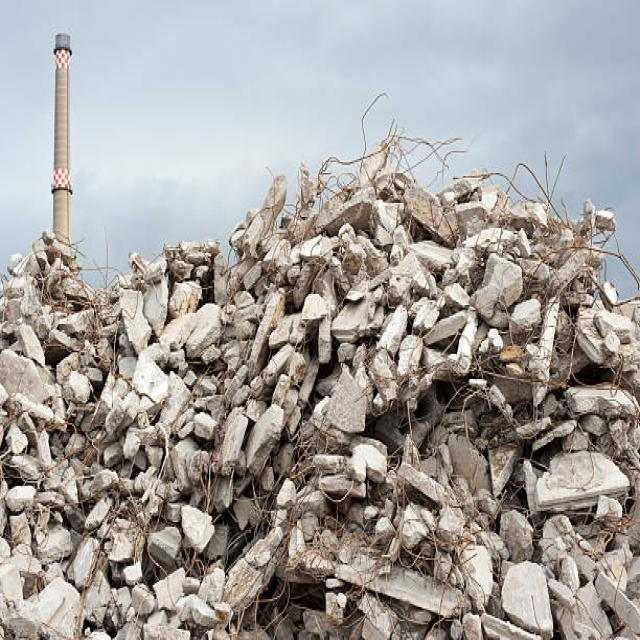trash: (6, 239, 631, 616)
